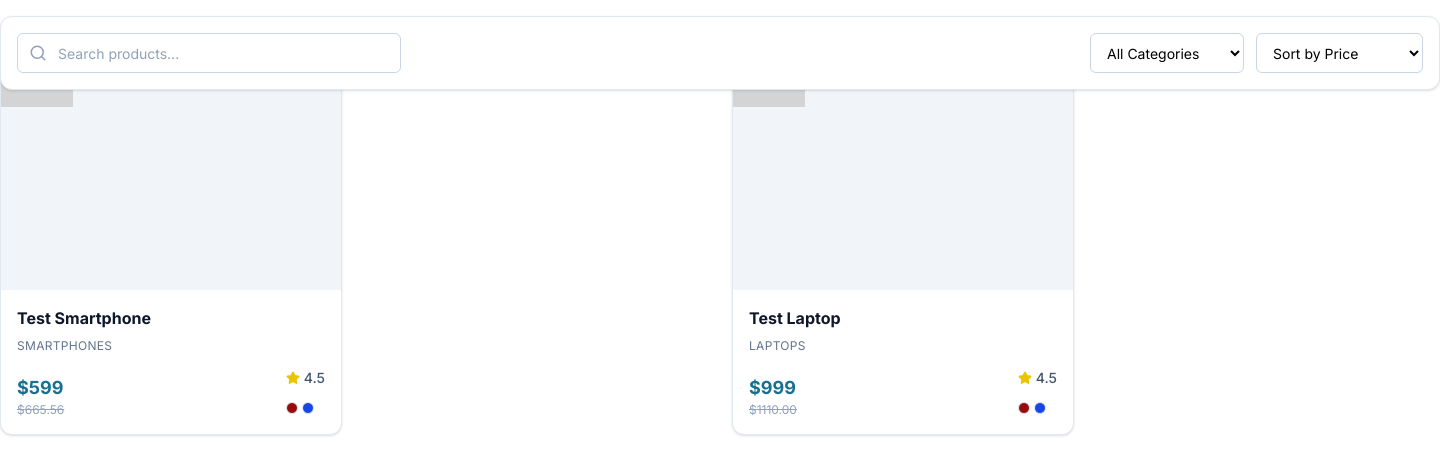
Test: ProductExplorerFlow Integration Tests › handles empty results from search
In the field with placeholder "Search products...": (209, 53) 17,33 -> 401,73, type "Nonexistent"
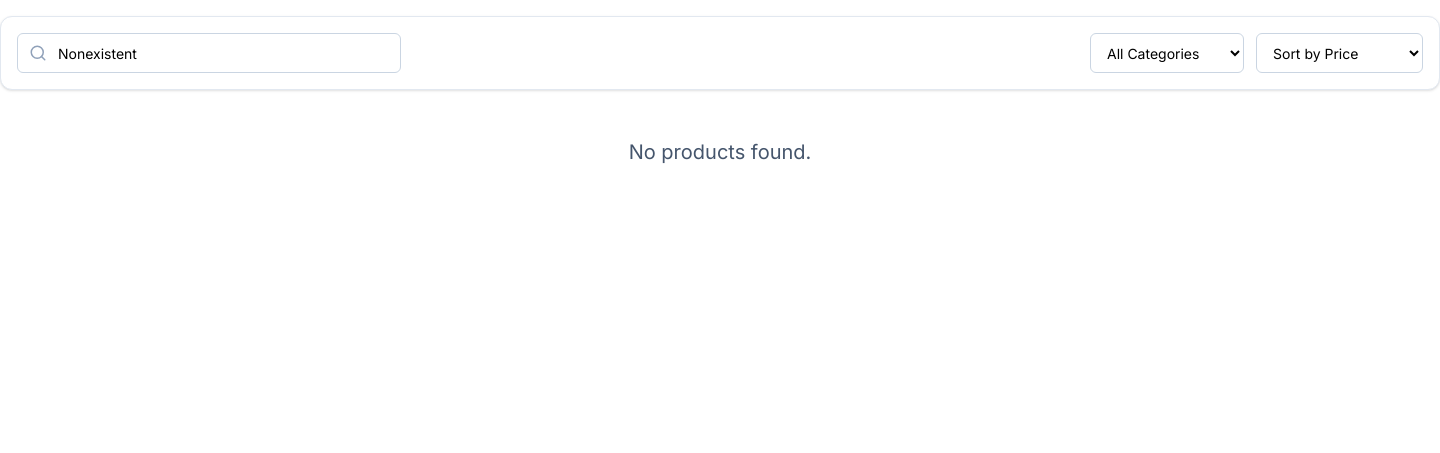
Now the text "No products found." is shown, box 629,140 -> 811,164
